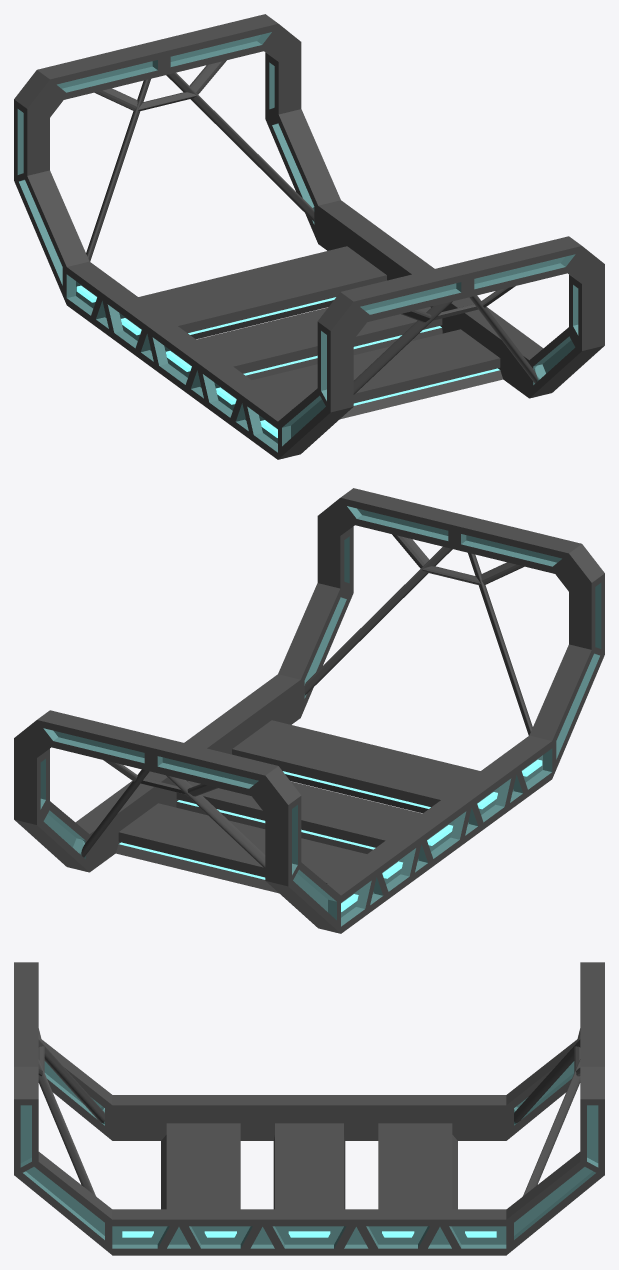
The model's file is magnetic cart.fbx.
3 views of the same model, one above another, from view 1: azimuth 30°, elevation 25°; view 2: azimuth 150°, elevation 25°; view 3: azimuth 270°, elevation 25° (orthographic). The views are drawn at different scales.
Parts seen in each view (by area): view 1: Cube; view 2: Cube; view 3: Cube.
Boxes of the visible parts, x1,y1,x2,y2 form: Cube: (14, 14, 604, 459); Cube: (14, 488, 604, 933); Cube: (14, 962, 604, 1255).
Size of the model in its own units: 600 by 400 by 1200.
